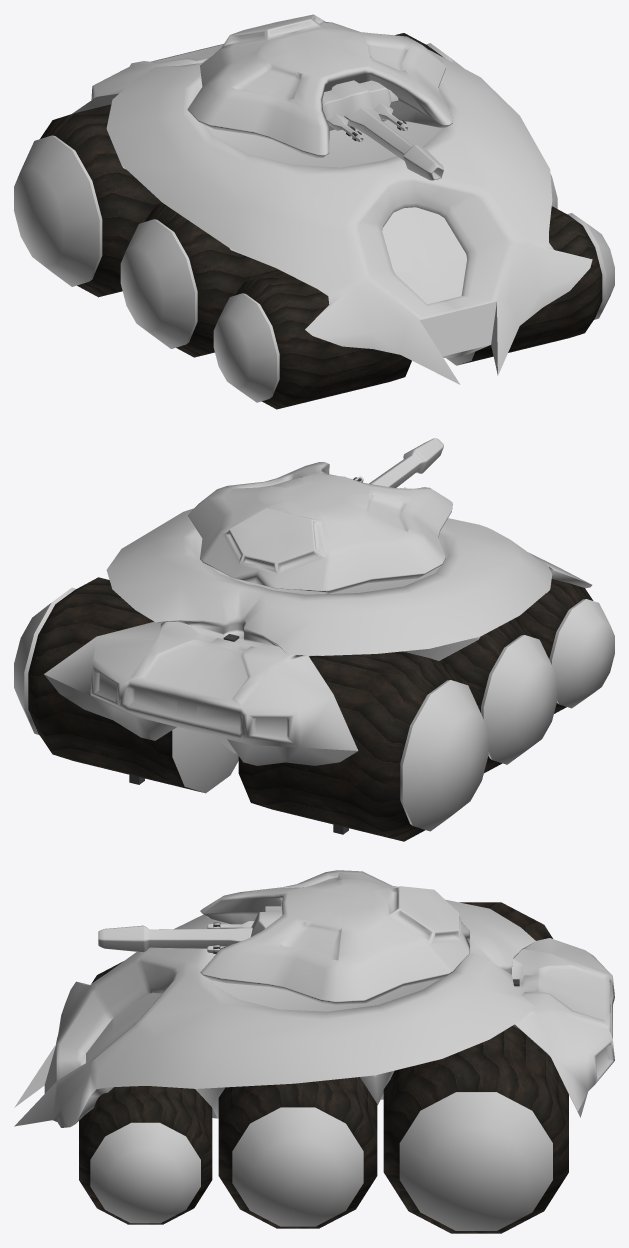
Rendered from evatank00.fbx.
The picture shows the model from 3 angles, top to bottom: view 1: azimuth 30°, elevation 25°; view 2: azimuth 150°, elevation 25°; view 3: azimuth 270°, elevation 25°; orthographic projection.
Parts seen in each view (by area): view 1: mainbody, tractor_r, tread_r, turret_y, tractor_l, recoil_1, turret_x, tread_l; view 2: mainbody, turret_y, tractor_r, tread_r, tractor_l, tread_l, recoil_1; view 3: mainbody, tread_l, tractor_l, turret_y, recoil_1, tractor_r, turret_x.
Boxes of the visible parts, x1,y1,x2,y2 form: mainbody: (72,44,592,384); tractor_r: (40,104,411,409); tread_r: (14,135,279,402); turret_y: (187,14,452,157); tractor_l: (395,33,602,365); recoil_1: (344,107,443,180); turret_x: (322,80,398,120); tread_l: (426,43,614,365); mainbody: (44,508,592,765); turret_y: (187,462,452,593); tractor_r: (238,579,593,841); tread_r: (400,599,614,831); tractor_l: (28,577,202,792); tread_l: (14,587,238,793); recoil_1: (369,438,443,487); mainbody: (14,899,614,1127); tread_l: (90,1092,552,1230); tractor_l: (79,1026,568,1233); turret_y: (200,870,470,1004); recoil_1: (98,925,252,952); tractor_r: (91,902,552,983); turret_x: (251,906,281,936).
Size of the model in its own units: 8.82 by 4.94 by 10.33.
